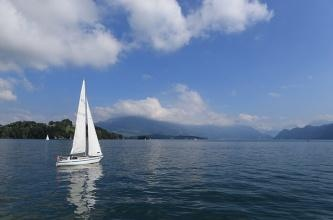fanchuan: (53, 80, 108, 168)
